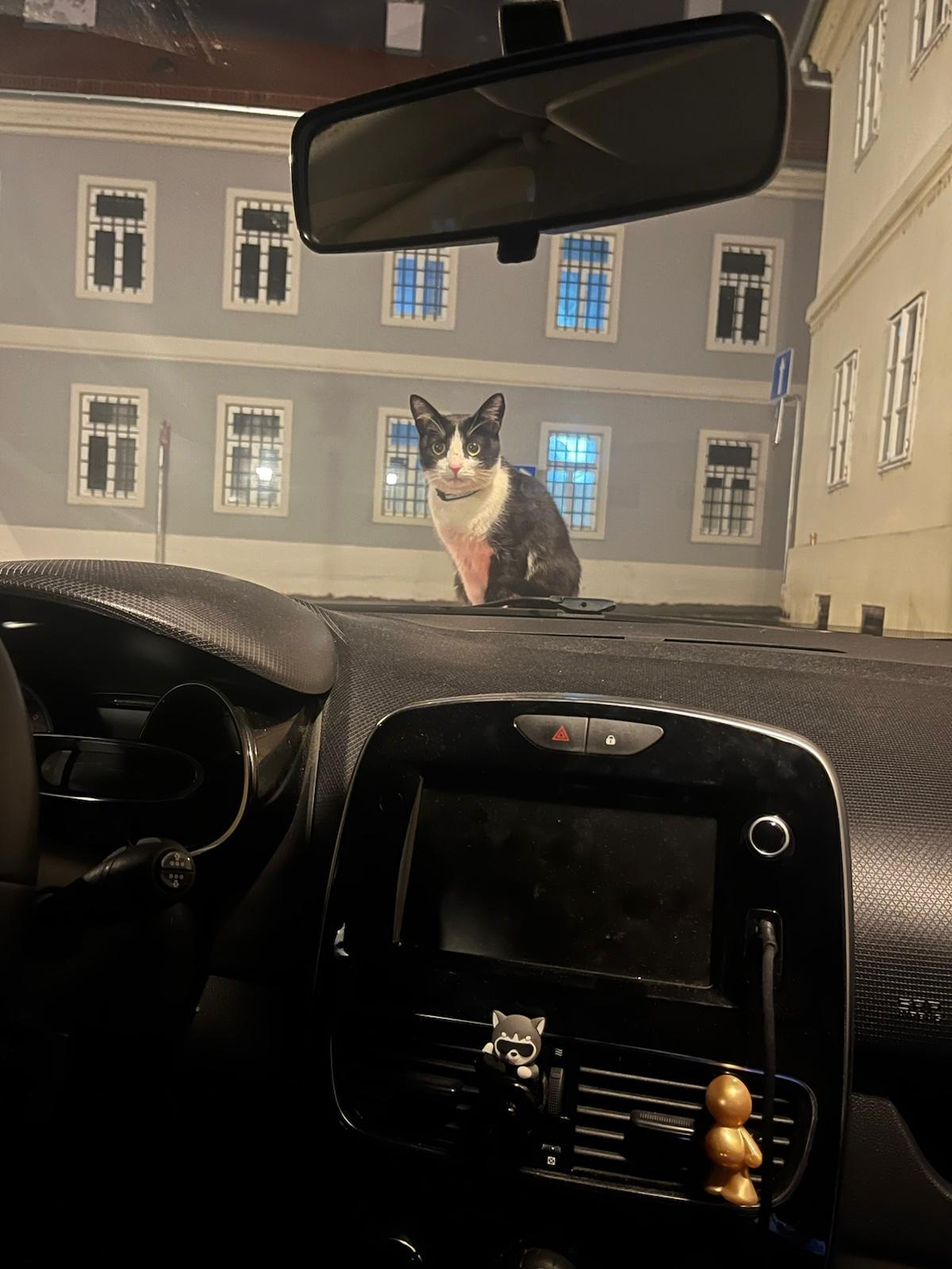macka: (410, 393, 580, 605)
